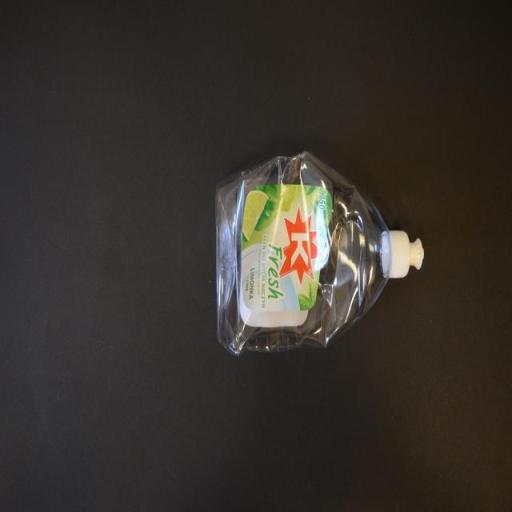plastic: (214, 148, 426, 358)
